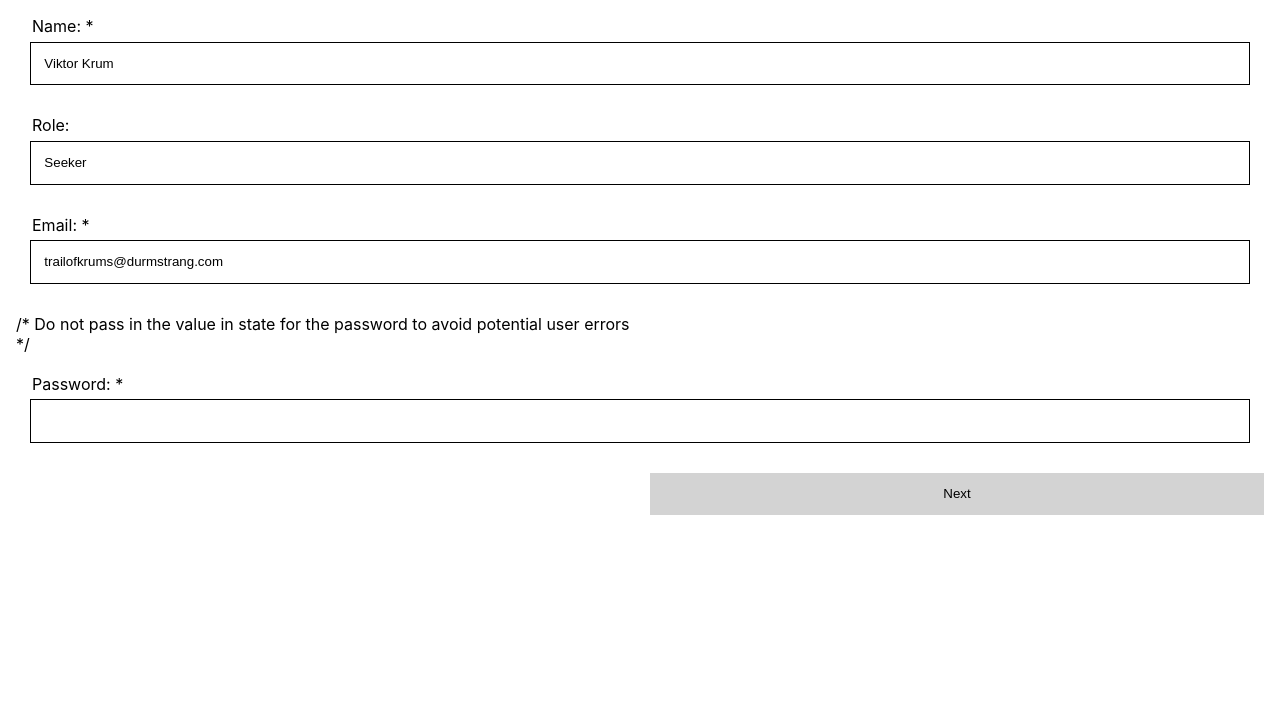
Scenario: Rendering the user form › displays the validation message if password was submitted with an unsupported value
The width and height of the screenshot is (1280, 720).
Type "badpass" into the password field with test id "user_password" at (640, 421), box [30,399,1250,443]
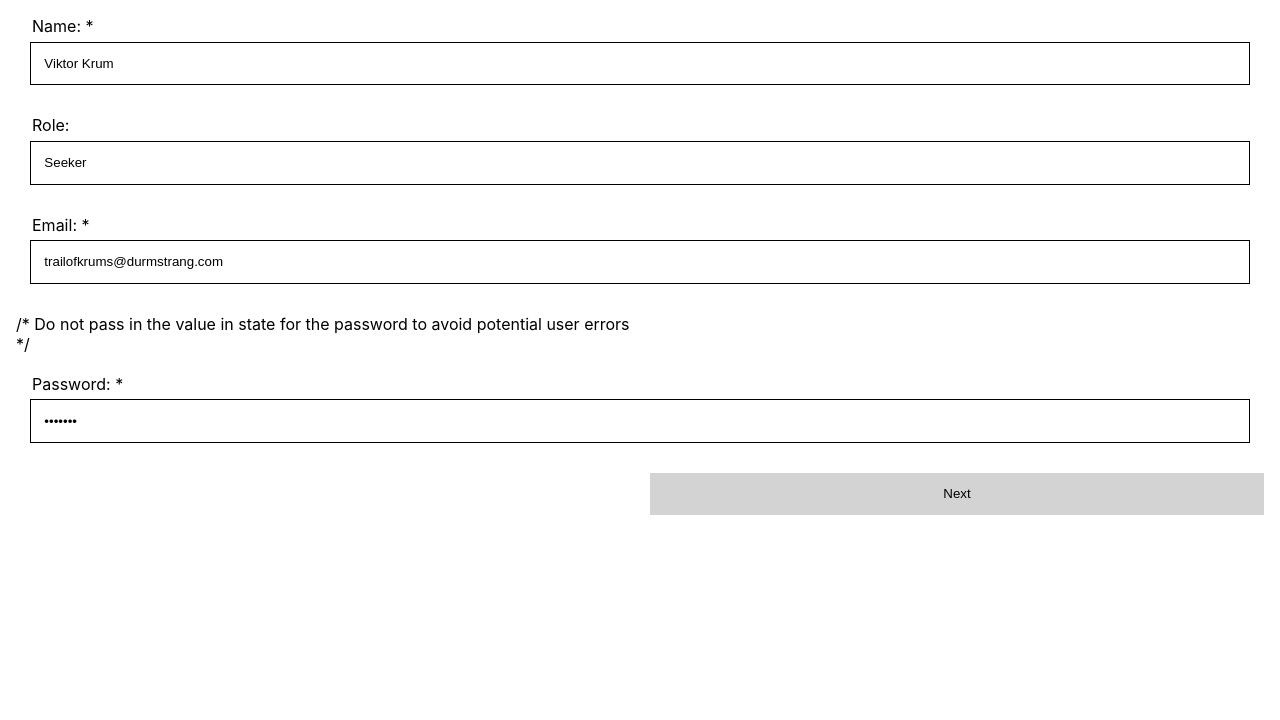
Click the button with test id "user-form-submit-button" at (957, 494), box [650,473,1264,515]
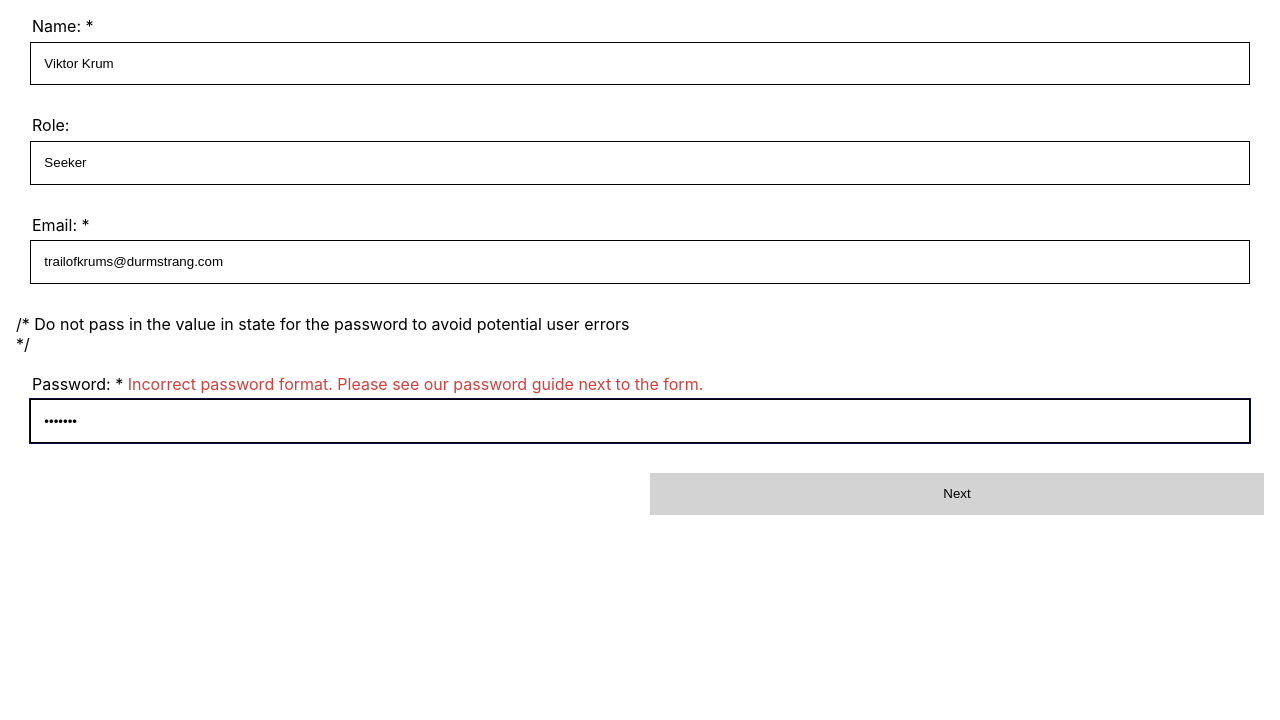
Check: the text "Incorrect password format. Please see our password guide next to the form." is shown, box [128,374,703,394]
